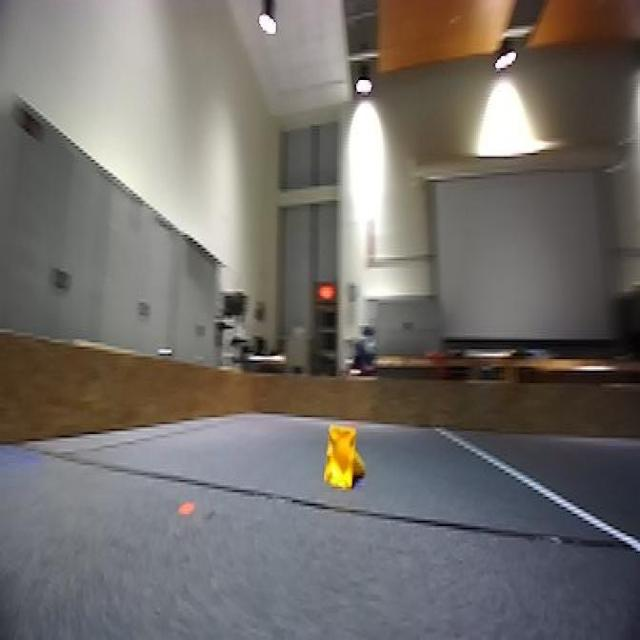frc_cone: (319, 420, 369, 497)
